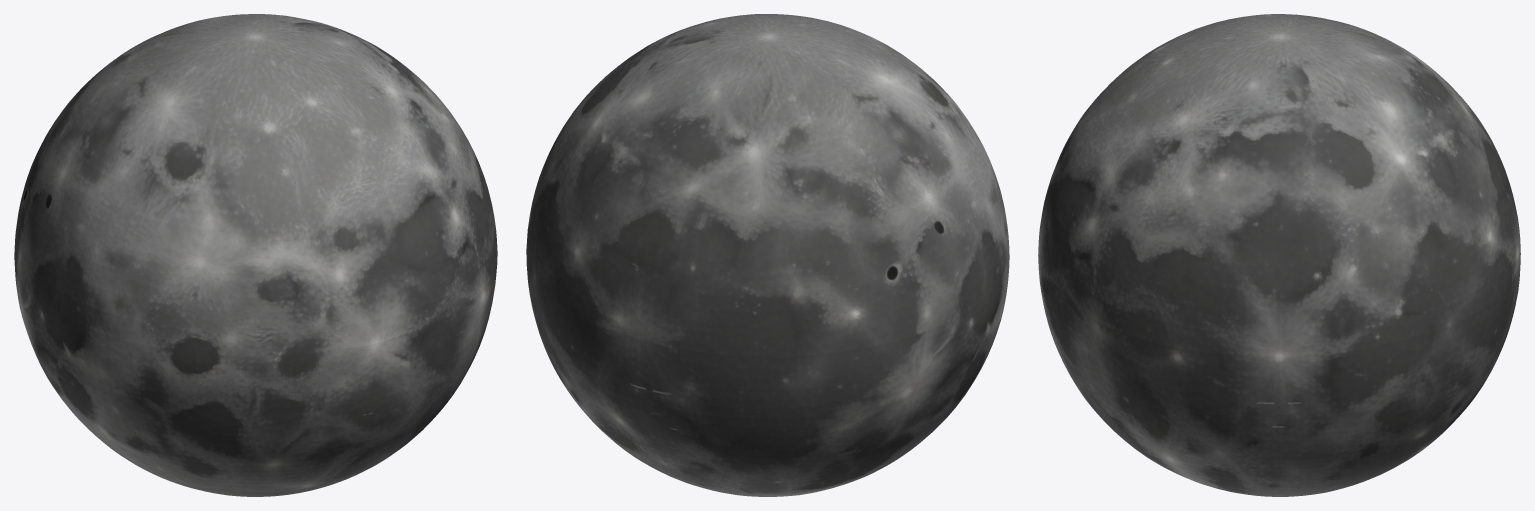
File: f8dbfcd2-b861-476f-8ae2-dbe12f725588.glb
3 renders of one model, left to right at view 1: azimuth 30°, elevation 25°; view 2: azimuth 150°, elevation 25°; view 3: azimuth 270°, elevation 25°, orthographic.
Visible parts, largest first — view 1: world; view 2: world; view 3: world.
Boxes of the visible parts, x1=… form: world: x1=14, y1=14, x2=497, y2=496; world: x1=526, y1=14, x2=1009, y2=496; world: x1=1038, y1=14, x2=1520, y2=496.
Size of the model in its own units: 0.9995 by 0.9992 by 0.9997.
1 material, 1 textured.
